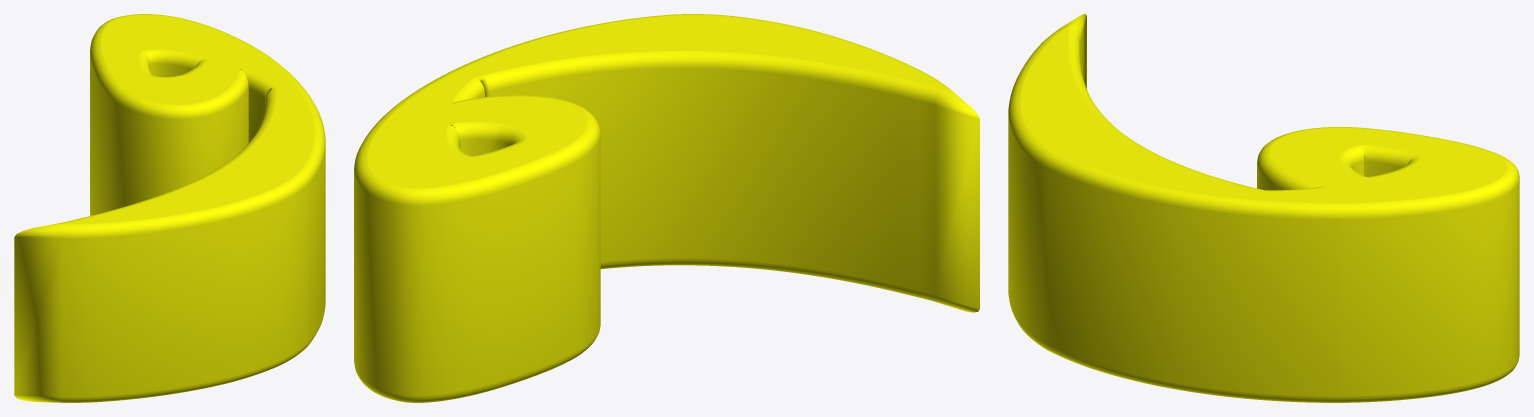
The model's file is 26 waw.fbx.
3 renders of one model, left to right at view 1: azimuth 30°, elevation 25°; view 2: azimuth 150°, elevation 25°; view 3: azimuth 270°, elevation 25°, orthographic. The views are drawn at different scales.
Parts seen in each view (by area): view 1: Text.125; view 2: Text.125; view 3: Text.125.
Part boxes in pixels (x1=…): Text.125: x1=14, y1=14, x2=325, y2=402; Text.125: x1=354, y1=14, x2=979, y2=402; Text.125: x1=1008, y1=14, x2=1519, y2=402.
Bounding box in the file's own units: 39.49 × 18 × 42.04.
